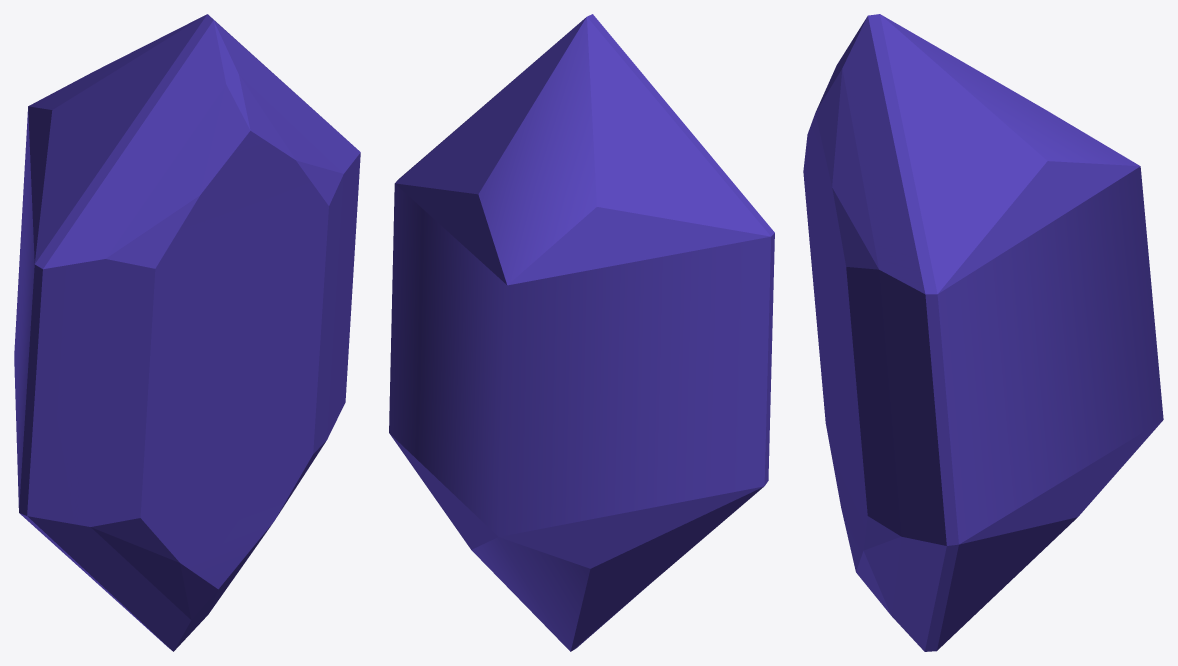
File: TR1_8shapes_Hex_Classic_Stone.001 3.glb
3 renders of one model, left to right at view 1: azimuth 30°, elevation 25°; view 2: azimuth 150°, elevation 25°; view 3: azimuth 270°, elevation 25°, orthographic. The views are drawn at different scales.
Visible parts, largest first — view 1: TR1_8shapes_Hex_Classic_Stone.001; view 2: TR1_8shapes_Hex_Classic_Stone.001; view 3: TR1_8shapes_Hex_Classic_Stone.001.
Boxes of the visible parts, box(x1,y1,x2,y2) form: TR1_8shapes_Hex_Classic_Stone.001: box(14, 14, 360, 651); TR1_8shapes_Hex_Classic_Stone.001: box(389, 14, 774, 651); TR1_8shapes_Hex_Classic_Stone.001: box(803, 14, 1163, 651).
Bounding box in the file's own units: 0.4432 × 0.7566 × 0.3839.
